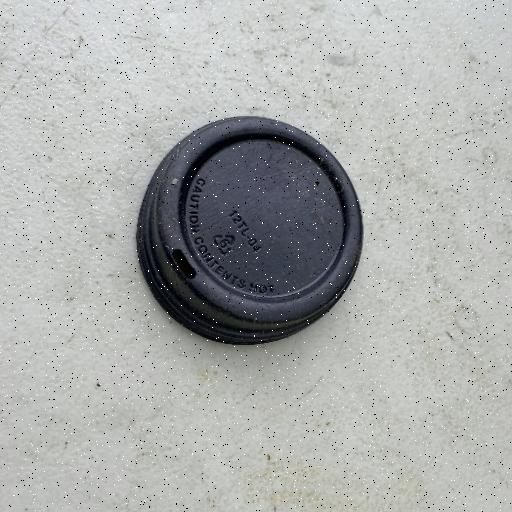Plastic: (132, 112, 368, 348)
